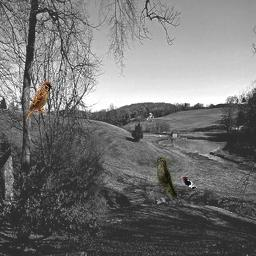Sparrow: (25, 81, 52, 121), (157, 157, 177, 197)
Woodpecker: (183, 177, 197, 189)
